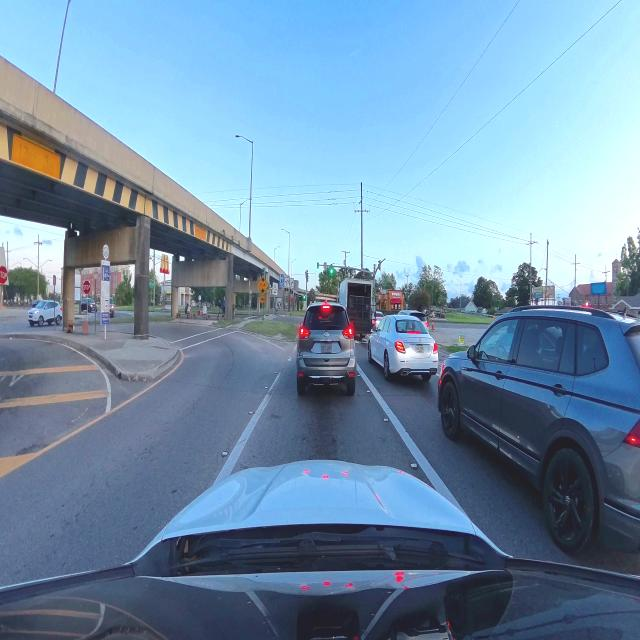car: (439, 307, 639, 552), (297, 303, 356, 395), (368, 315, 438, 380), (28, 301, 62, 326), (80, 298, 95, 312), (110, 298, 114, 317)
